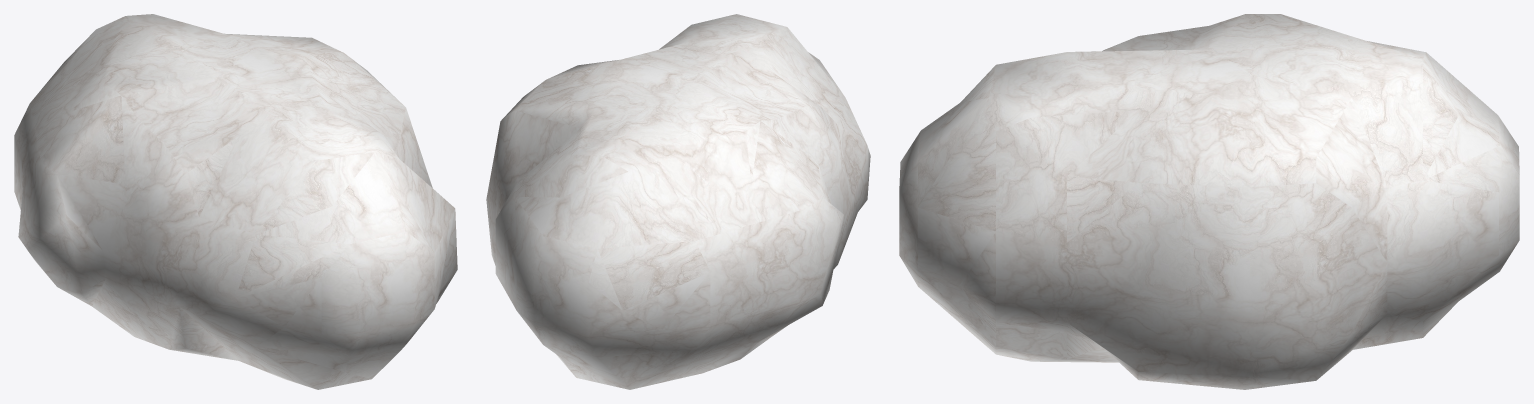
Rendered from Cloud.FBX.
3 views of the same model, side by side, from view 1: azimuth 30°, elevation 25°; view 2: azimuth 150°, elevation 25°; view 3: azimuth 270°, elevation 25° (orthographic). The views are drawn at different scales.
Parts seen in each view (by area): view 1: BlobMesh006; view 2: BlobMesh006; view 3: BlobMesh006.
Part boxes in pixels (x1=…): BlobMesh006: x1=14, y1=14, x2=457, y2=389; BlobMesh006: x1=486, y1=14, x2=870, y2=389; BlobMesh006: x1=899, y1=14, x2=1519, y2=389.
Size of the model in its own units: 0.8695 by 0.6223 by 1.2.
1 material, 1 textured.
